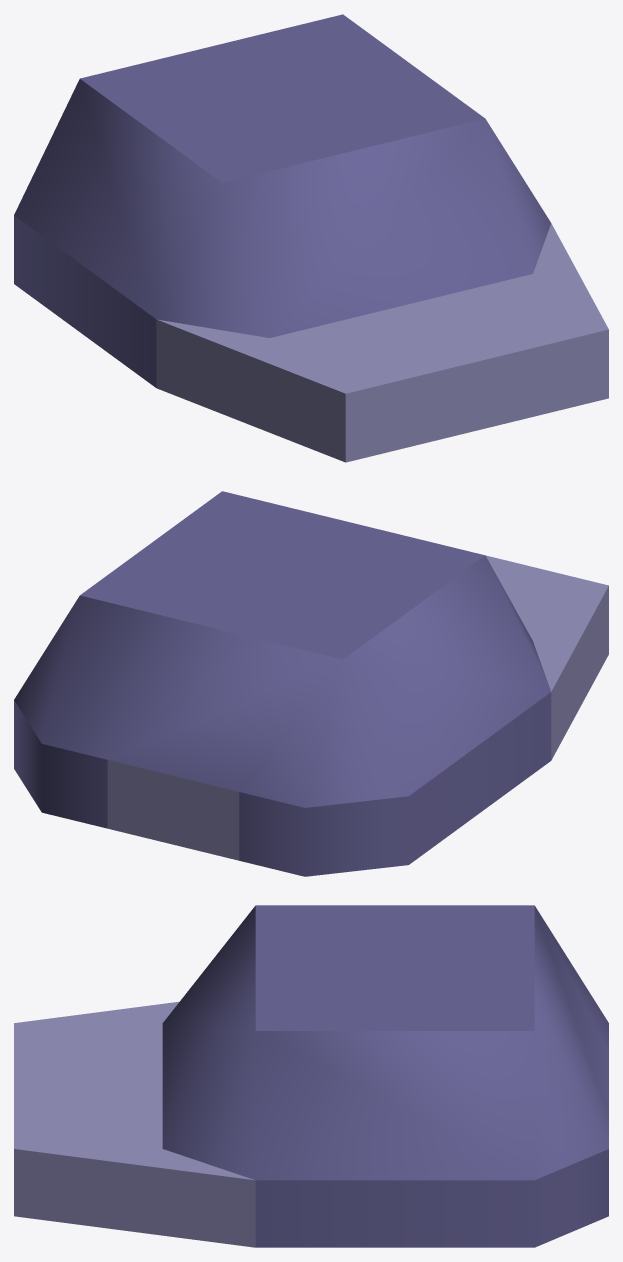
Rendered from HAT.fbx.
3 views of the same model, one above another, from view 1: azimuth 30°, elevation 25°; view 2: azimuth 150°, elevation 25°; view 3: azimuth 270°, elevation 25° (orthographic). The views are drawn at different scales.
Parts seen in each view (by area): view 1: headwear_cap; view 2: headwear_cap; view 3: headwear_cap.
Boxes of the visible parts, x1=… form: headwear_cap: x1=14, y1=14, x2=608, y2=462; headwear_cap: x1=14, y1=491, x2=608, y2=876; headwear_cap: x1=14, y1=905, x2=608, y2=1247.
Bounding box in the file's own units: 2.4 × 1.1 × 3.2.
